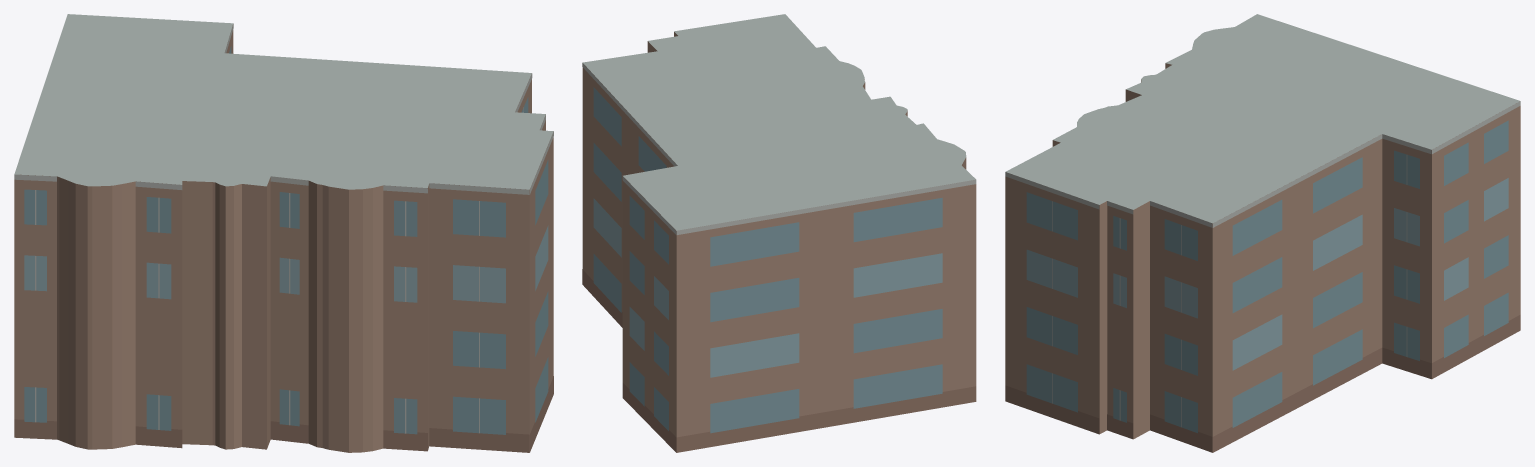
The model's file is survey-upis-32934457.glb.
The picture shows the model from 3 angles, left to right: view 1: azimuth 30°, elevation 25°; view 2: azimuth 150°, elevation 25°; view 3: azimuth 270°, elevation 25°; orthographic projection. The views are drawn at different scales.
Visible parts, largest first — view 1: survey-upis-32934457.tmp; view 2: survey-upis-32934457.tmp; view 3: survey-upis-32934457.tmp.
Boxes of the visible parts, x1,y1,x2,y2 form: survey-upis-32934457.tmp: [14, 14, 553, 452]; survey-upis-32934457.tmp: [582, 14, 976, 452]; survey-upis-32934457.tmp: [1005, 14, 1520, 452].
Bounding box in the file's own units: 23.89 × 12.2 × 24.84.
